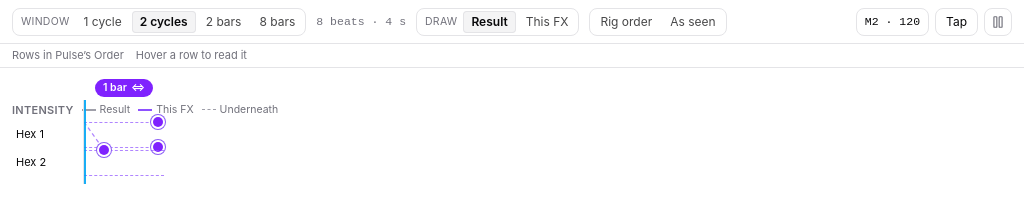
Test case: the handles (FX editor plan D12, §4.4) › says every head starts together when the desk’s offsets are all one
Hover over the element named "Every head together" at x=104, y=150, box [99,145,109,155]
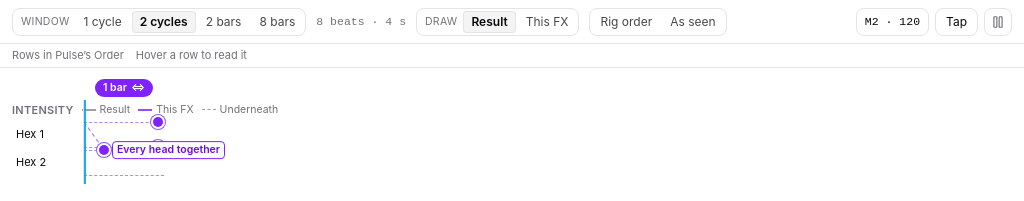
Now the text "Every head together" is shown, box [112,141,225,159]
